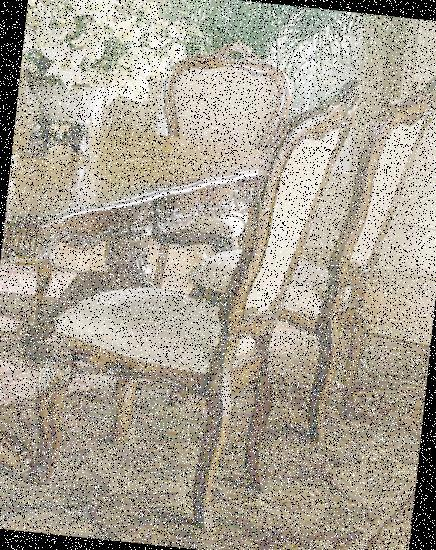Mesa: (0, 118, 283, 501)
Silla: (22, 47, 368, 541), (166, 50, 435, 447)
